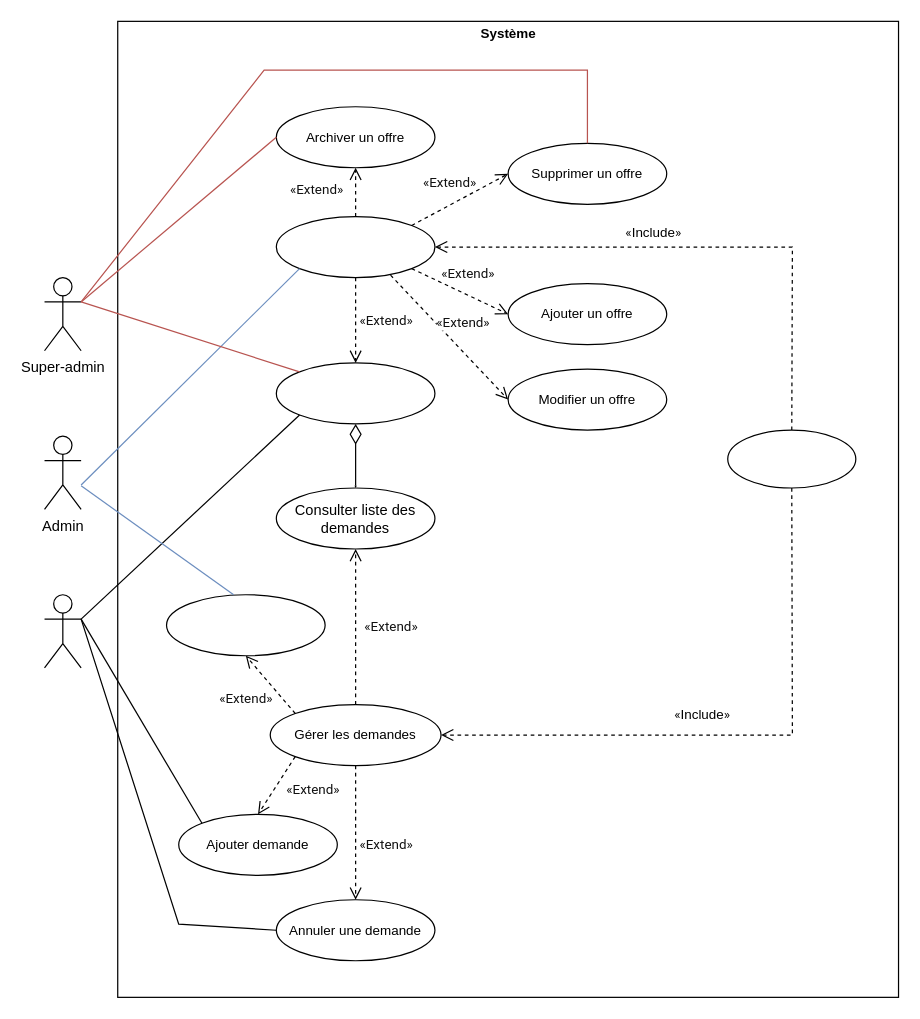
Image size: 920x1019. Some labels were removed from this diagram. The shapes that lost their labels are listed below. From the top down, each one's box as (x1, y1, x2, y2) in pixels, then its label:
(275, 215, 435, 278): Gérer les offres
(275, 362, 435, 424): Consulter liste des offres
(727, 429, 856, 488): S'authentifier
(43, 594, 81, 668): Client
(165, 594, 325, 656): Decrypter une demande
